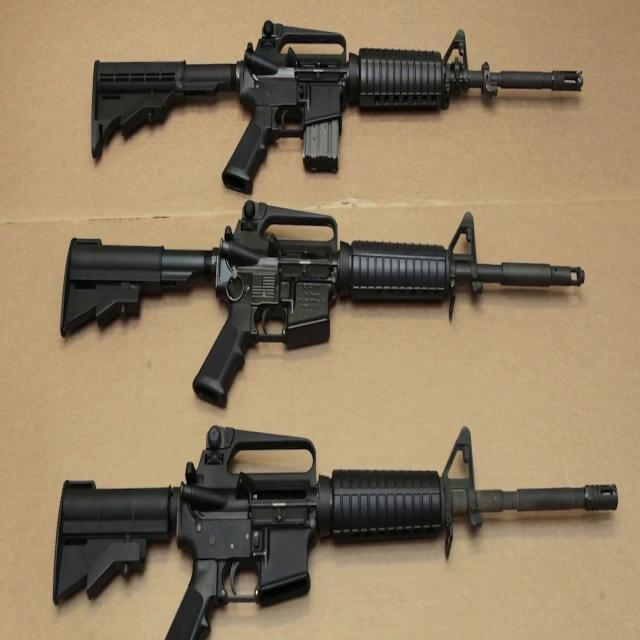rifle: (46, 424, 623, 628), (62, 202, 592, 394), (75, 16, 592, 194)
